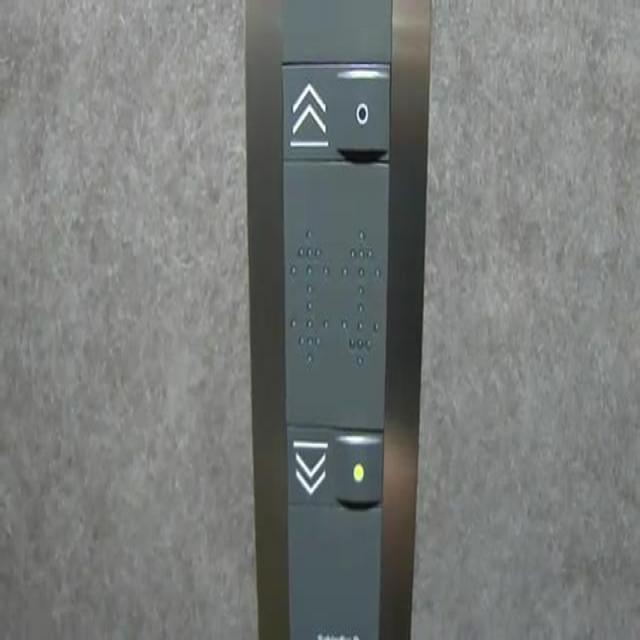down: (284, 414, 384, 514)
up: (276, 53, 391, 172)
